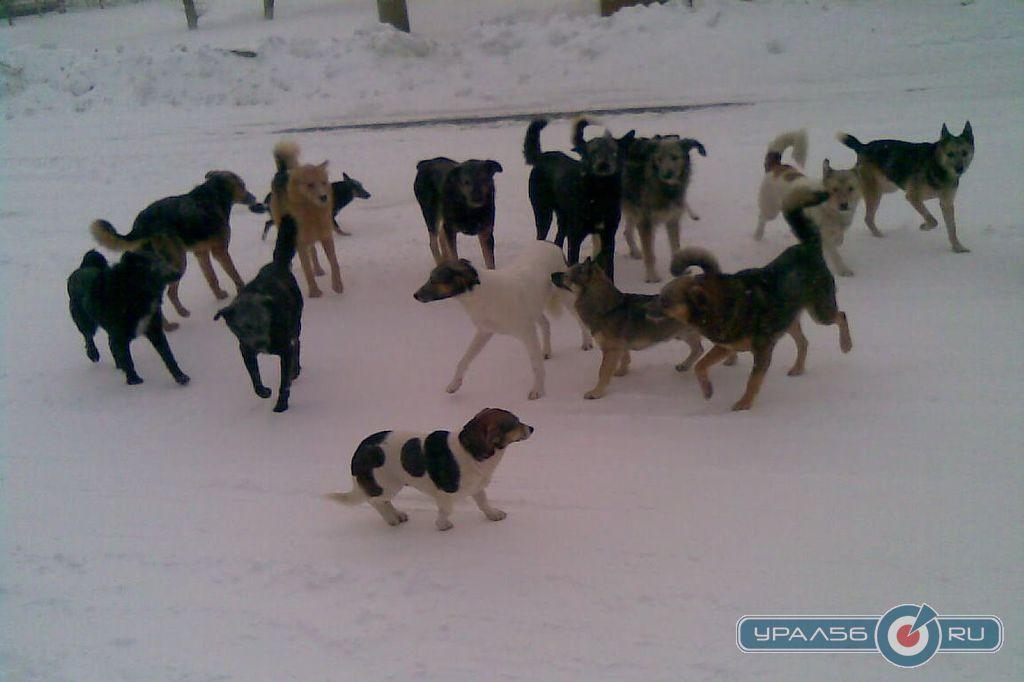normal_dogs: (640, 190, 855, 414), (552, 245, 739, 401), (327, 405, 540, 537), (412, 237, 579, 402), (89, 168, 249, 328), (577, 115, 708, 283), (838, 119, 994, 256), (215, 215, 314, 414), (69, 237, 192, 384), (519, 119, 620, 290), (753, 127, 860, 278), (267, 142, 343, 298), (411, 156, 501, 281)
